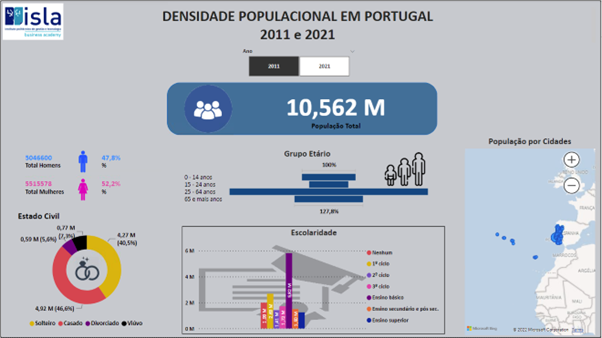

This screenshot's page, from the dashboard's own definition file:
{"tool":"powerbi","page":{"name":"Geral 2011 ou 2021","canvas":[1280,720],"ordinal":0},"visuals":[{"type":"textbox","box":[2,9.2,1270.8,87.3],"z":0},{"type":"group","id":"g1","title":"Grupo 5","box":[354.6,174.9,576,112],"z":0,"group":"g4"},{"type":"shape","box":[354.6,174.9,576,112],"z":0,"group":"g1"},{"type":"funnel","title":"Grupo Etário","fields":{"Y":["Sum(Grupo Etário.0 - 14 anos HM)","Sum(Grupo Etário.15 - 24 anos HM)","Sum(Grupo Etário.25 - 64 anos HM)","Sum(Grupo Etário.65 e mais anos HM)"]},"box":[386.9,313.9,533.8,150.7],"z":0,"group":"g5"},{"type":"multiRowCard","fields":{"Values":["Sum(Estado Civil.Total M)","Sum(Estado Civil.% M)"]},"box":[48,376,336,64],"z":0,"group":"g2"},{"type":"donutChart","title":"Estado Civil","fields":{"Y":["Sum(Estado Civil.Solteiro HM)","Sum(Estado Civil.Casado HM)","Sum(Estado Civil.Divorciado HM)","Sum(Estado Civil.Viúvo HM)"]},"box":[32,448,304,260.6],"z":0,"group":"g3"},{"type":"slicer","fields":{"Values":["Calendário.Ano"]},"box":[504,96,264,72],"z":1000},{"type":"card","fields":{"Values":["Sum(Ensino.Total HM)"]},"box":[498.6,174.9,432,112],"z":1000,"group":"g1"},{"type":"image","box":[813.1,312,97.9,96],"z":1000,"group":"g5"},{"type":"image","box":[144,376,64,56],"z":1000,"group":"g2"},{"type":"image","box":[89.1,541.2,190.8,61.4],"z":1000,"group":"g3"},{"type":"image","box":[370.6,174.9,144,112],"z":2000,"group":"g1"},{"type":"multiRowCard","fields":{"Values":["Sum(Estado Civil.Total H)","Estado Civil.% H"]},"box":[48,320,336,56],"z":2000,"group":"g2"},{"type":"clusteredColumnChart","title":"Escolaridade","fields":{"Y":["Sum(Ensino.Nenhum HM)","Sum(Ensino.1º ciclo HM)","Sum(Ensino.2º ciclo HM)","Sum(Ensino.3º ciclo HM)","Sum(Ensino.Ensino básico HM)","Sum(Ensino.Ensino secundário e pós secundário HM)","Sum(Ensino.Ensino superior HM)"]},"box":[386.9,482.9,559.7,230.4],"z":2000},{"type":"map","title":"População por Cidades","fields":{"Category":["Local.Local"],"Size":["Sum(Estado Civil.Total HM)"]},"box":[984,288,288,432],"z":3000},{"type":"image","box":[144,312,64,64],"z":3000,"group":"g2"},{"type":"group","id":"g2","title":"Grupo 1","box":[48,312,336,128],"z":4000},{"type":"group","id":"g3","title":"Grupo 2","box":[32,448,304,256],"z":5000},{"type":"group","id":"g4","title":"Grupo 3","box":[354.6,174.9,576,112],"z":6000},{"type":"image","box":[0,0,139.2,89.3],"z":7000},{"type":"group","id":"g5","title":"Grupo 4","box":[386.9,312,533.8,152.6],"z":8000}]}

Visuals, with their boxes in screenshot pixels (x1, y1, x2, y2), scaled from the page's 1280x720 canvas onto the 602x338 screenshot:
textbox: <bbox>1, 4, 599, 45</bbox>
"Grupo 5" group: <bbox>167, 82, 438, 135</bbox>
shape: <bbox>167, 82, 438, 135</bbox>
"Grupo Etário" funnel: <bbox>182, 147, 433, 218</bbox>
multiRowCard - Sum(Estado Civil.Total M) x Sum(Estado Civil.% M): <bbox>23, 177, 181, 207</bbox>
"Estado Civil" donutChart: <bbox>15, 210, 158, 333</bbox>
slicer - Calendário.Ano: <bbox>237, 45, 361, 79</bbox>
card - Sum(Ensino.Total HM): <bbox>234, 82, 438, 135</bbox>
image: <bbox>382, 146, 428, 192</bbox>
image: <bbox>68, 177, 98, 203</bbox>
image: <bbox>42, 254, 132, 283</bbox>
image: <bbox>174, 82, 242, 135</bbox>
multiRowCard - Sum(Estado Civil.Total H) x Estado Civil.% H: <bbox>23, 150, 181, 177</bbox>
"Escolaridade" clusteredColumnChart: <bbox>182, 227, 445, 335</bbox>
"População por Cidades" map: <bbox>463, 135, 598, 337</bbox>
image: <bbox>68, 146, 98, 177</bbox>
"Grupo 1" group: <bbox>23, 146, 181, 207</bbox>
"Grupo 2" group: <bbox>15, 210, 158, 330</bbox>
"Grupo 3" group: <bbox>167, 82, 438, 135</bbox>
image: <bbox>0, 0, 65, 42</bbox>
"Grupo 4" group: <bbox>182, 146, 433, 218</bbox>
